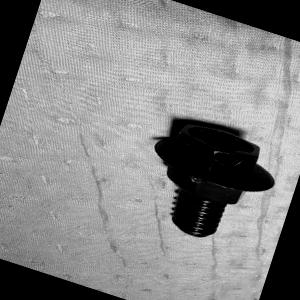parafuso: (131, 110, 286, 255)
